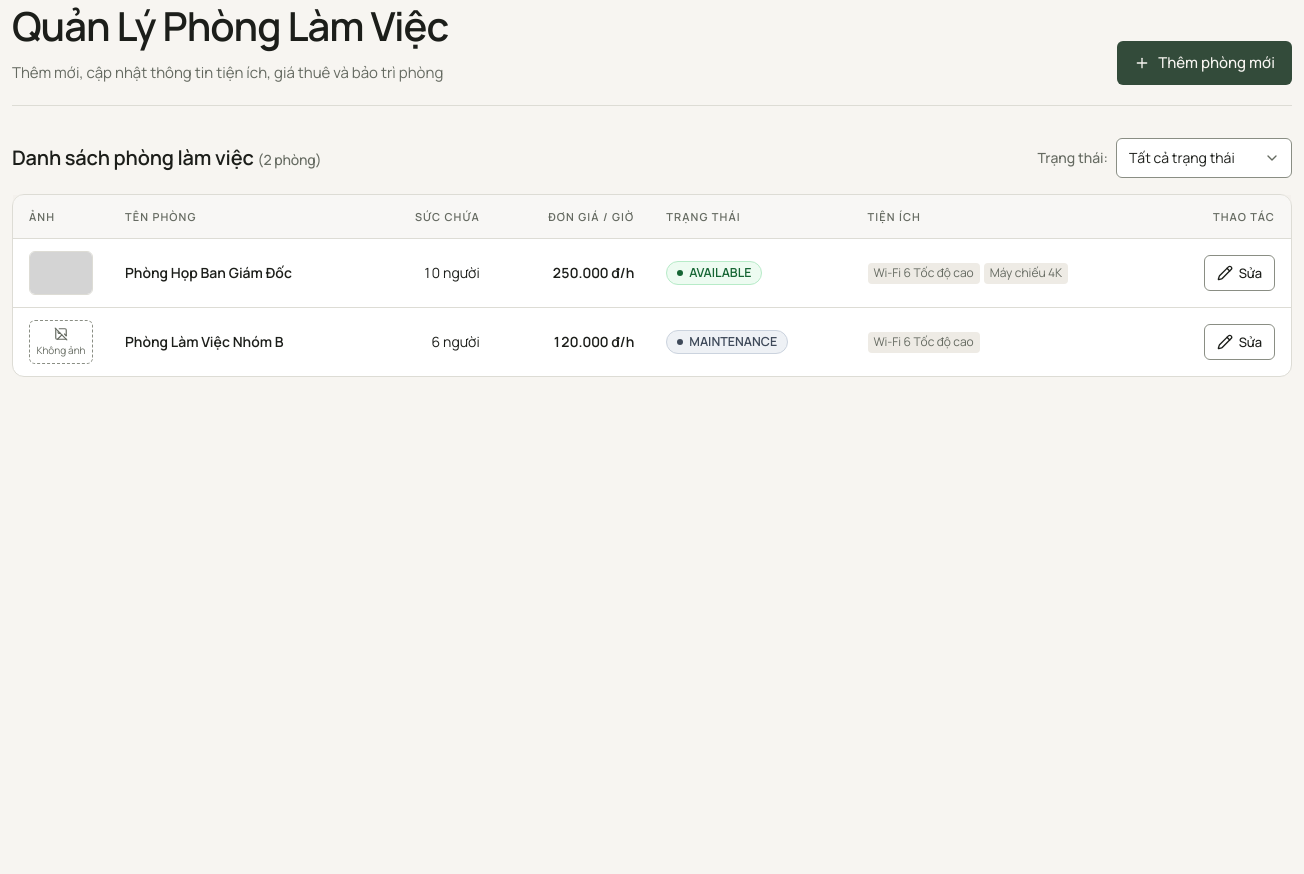
Test: AdminPage - Room Management & Form › Create Room Flow & Image URL Rules › enforces client validation for required fields
The image size is (1304, 874).
Expected: the text "Phòng Họp Ban Giám Đốc" is shown, [125, 263, 292, 282]
What coordinates should you click on to do the following:
click the button with test id "admin-add-room-btn"
I would click on:
 (1205, 63)
Its box is [1117, 41, 1292, 85].
(page scrolled)
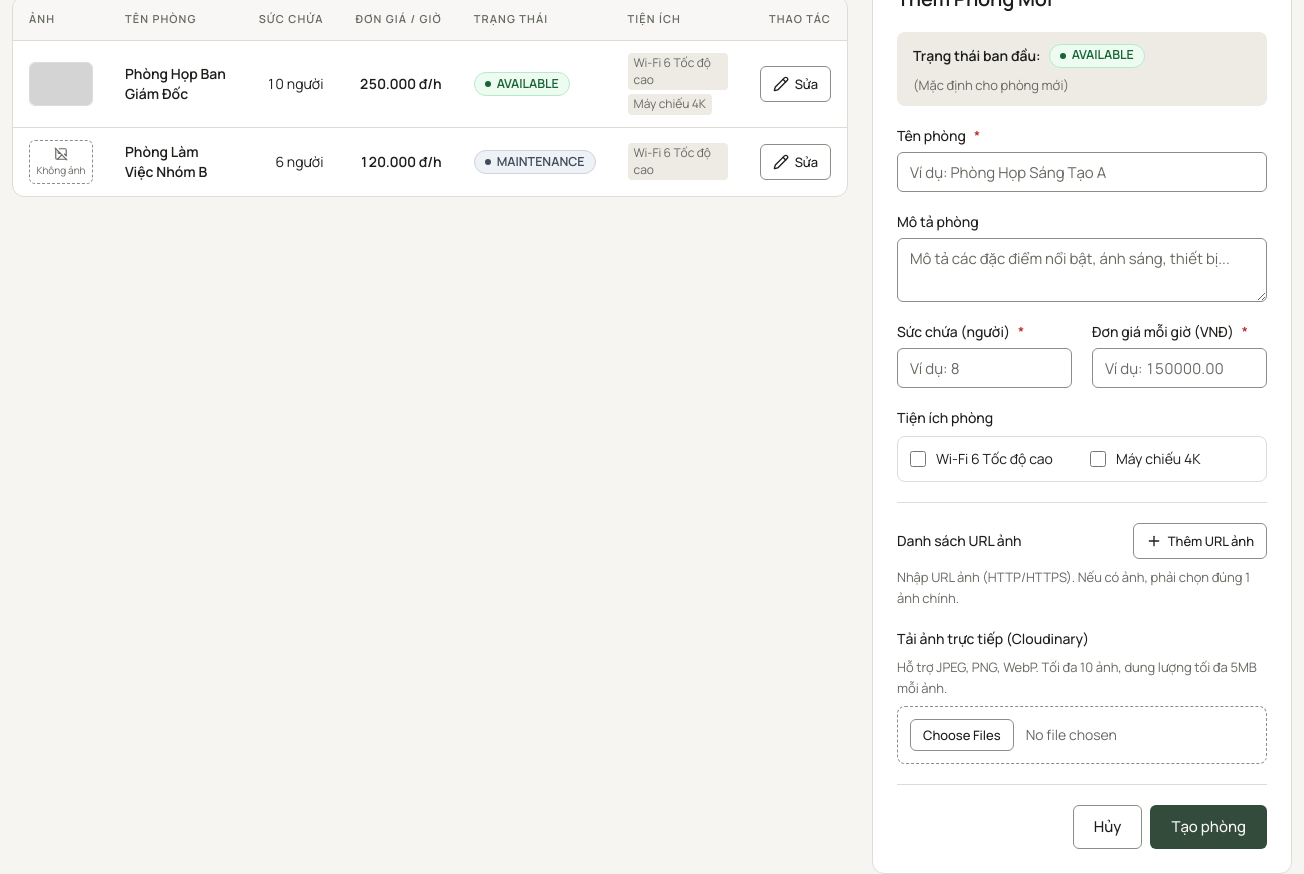
What coordinates should you click on to do the following:
click the button with test id "admin-submit-room-btn"
I would click on:
 (1209, 827)
Its box is [1150, 805, 1267, 849].
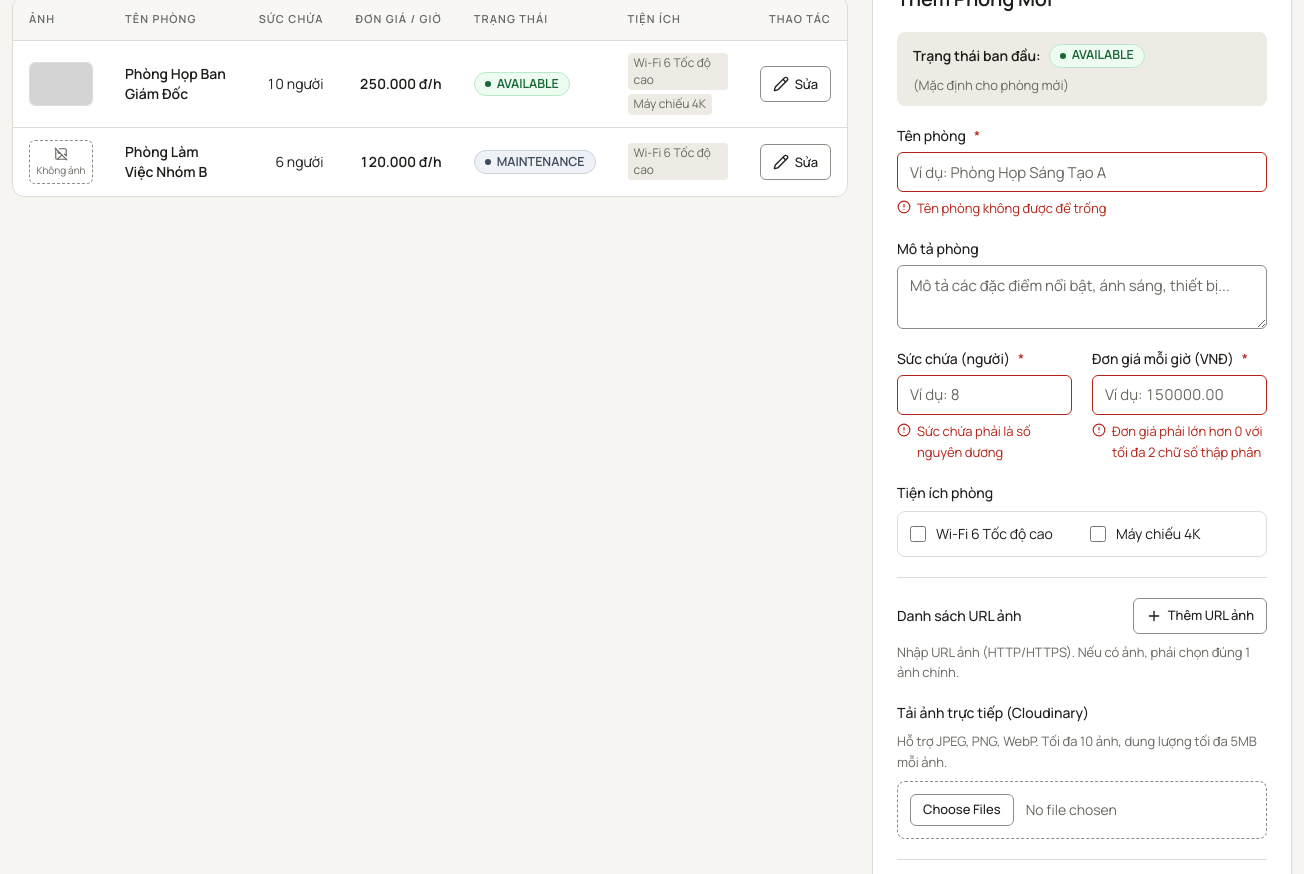
Expected: the message with test id "error-name" reads "Tên phòng không được để trống", [917, 199, 1106, 217]
Expected: the message with test id "error-capacity" reads "Sức chứa phải là số nguyên dương", [917, 422, 1031, 461]
Expected: the message with test id "error-pricePerHour" reads "Đơn giá phải lớn hơn 0 với tối đa 2 chữ số thập phân", [1112, 422, 1263, 461]
